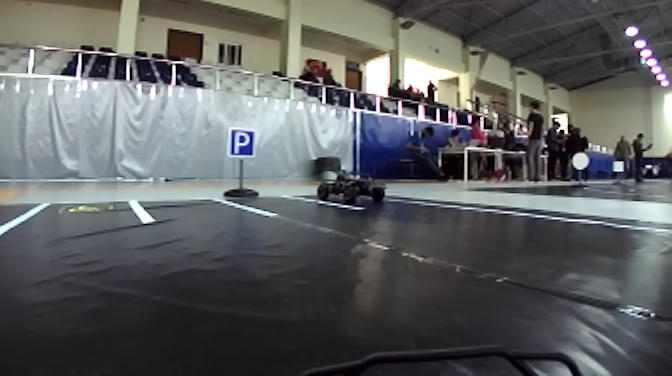park: (229, 128, 258, 161)
